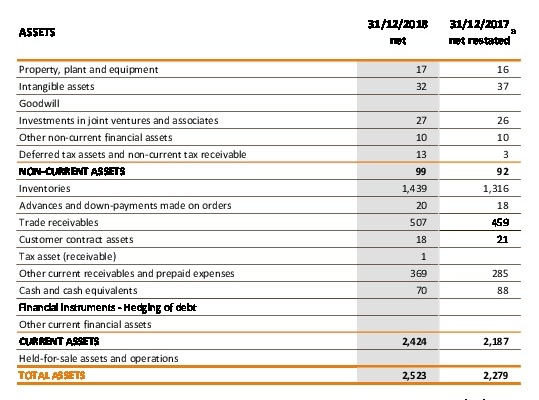table: (0, 0, 539, 400)
